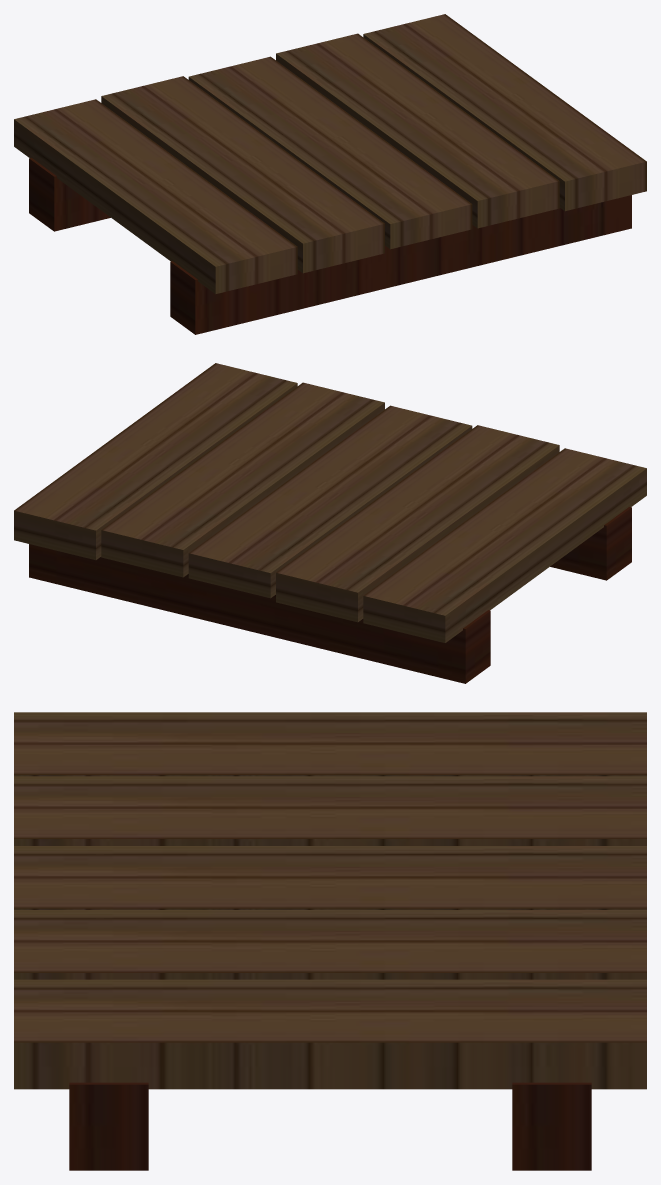
The model's file is plat_wood_mid_01.glb.
3 views of the same model, one above another, from view 1: azimuth 30°, elevation 25°; view 2: azimuth 150°, elevation 25°; view 3: azimuth 270°, elevation 25° (orthographic). The views are drawn at different scales.
Parts seen in each view (by area): view 1: plat_wood_mid_01; view 2: plat_wood_mid_01; view 3: plat_wood_mid_01.
Part boxes in pixels (left/top/right/bottom): plat_wood_mid_01: left=14, top=14, right=646, bottom=334; plat_wood_mid_01: left=14, top=363, right=646, bottom=683; plat_wood_mid_01: left=14, top=712, right=646, bottom=1170.
Bounding box in the file's own units: 1 × 0.18 × 0.8.
2 materials, 2 textured.
